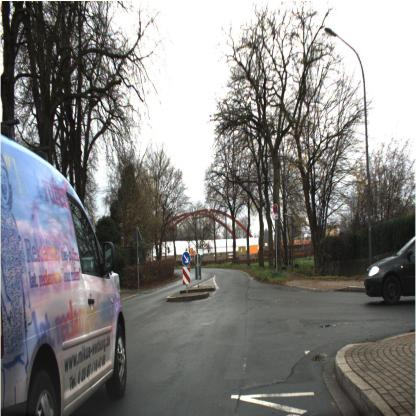mandatory: (180, 251, 194, 267)
